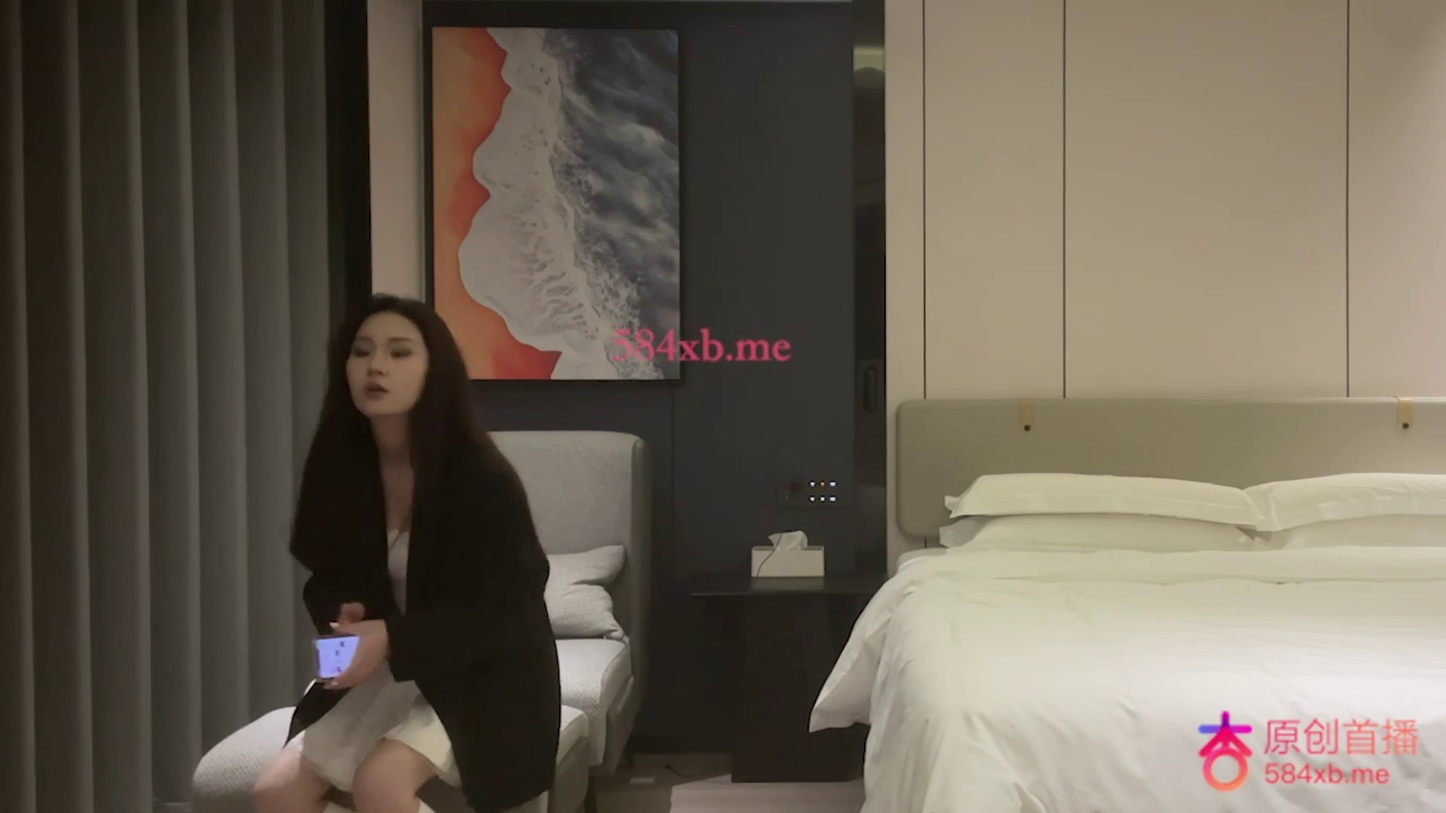squat: (251, 293, 563, 813)
